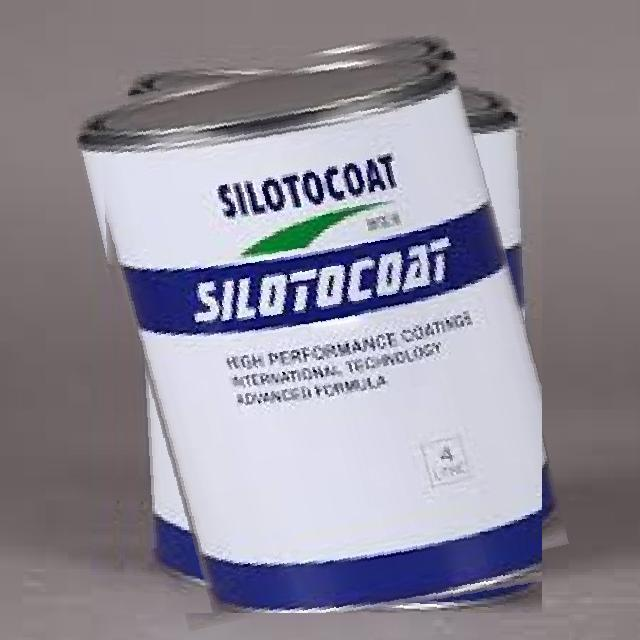recyclable: (96, 39, 542, 613)
